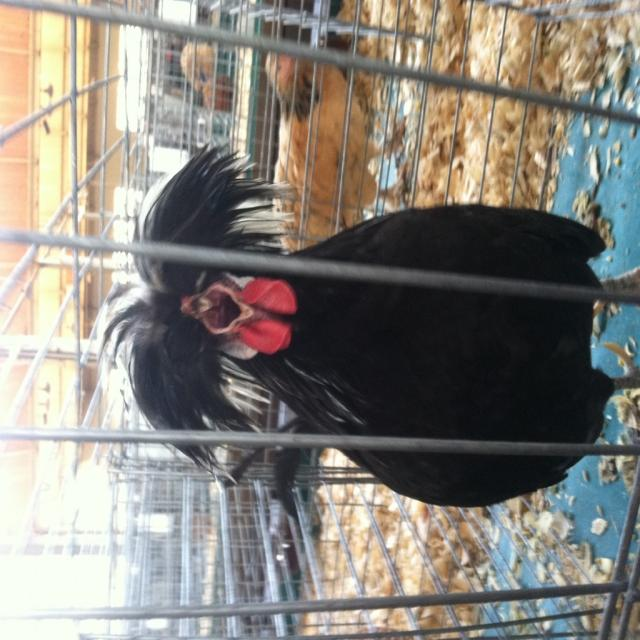Chicken: (128, 170, 640, 510)
